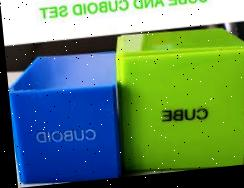cube: (114, 28, 244, 179)
